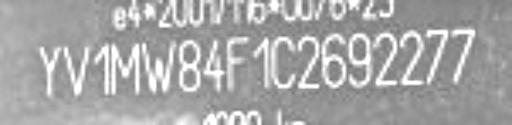letter: (139, 34, 183, 97), (448, 20, 480, 93), (26, 40, 64, 101), (108, 37, 142, 104), (172, 34, 206, 97), (424, 19, 454, 90), (60, 40, 94, 101), (224, 30, 256, 93), (318, 23, 348, 90), (268, 30, 298, 97), (370, 26, 402, 87), (400, 23, 426, 94), (348, 27, 376, 90), (294, 30, 322, 93), (200, 33, 226, 94), (91, 37, 111, 100), (251, 30, 271, 91)
